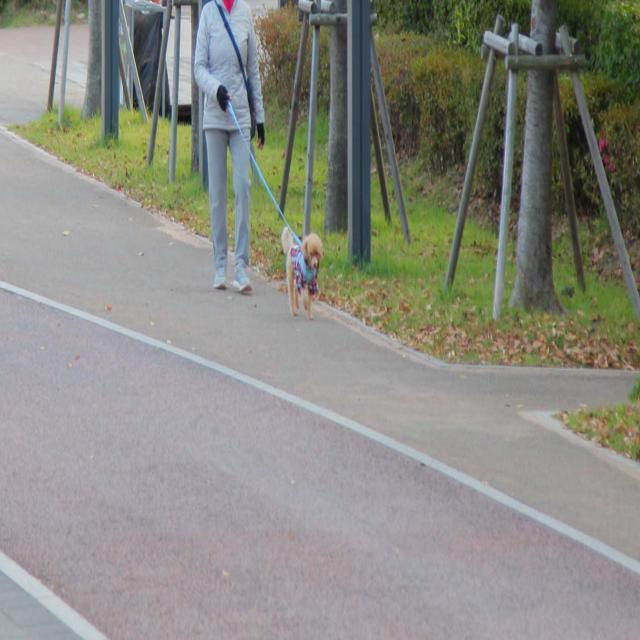Leashed_Dog: (214, 86, 322, 320)
